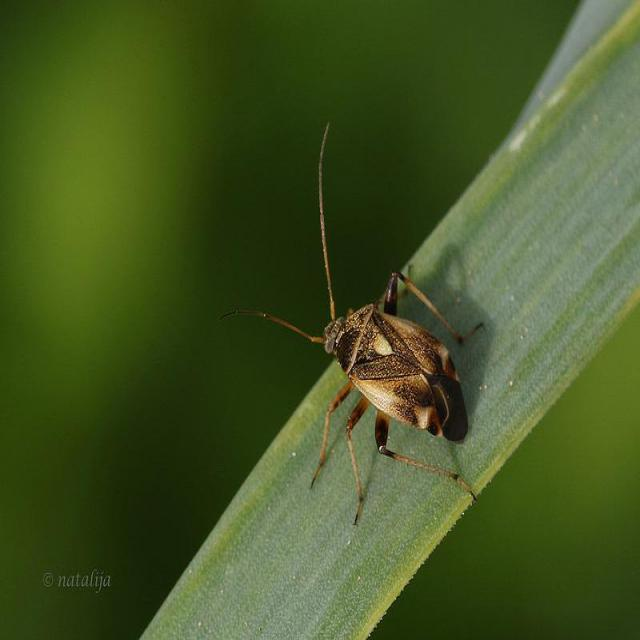Miridae-Adult-: (257, 102, 495, 536)
